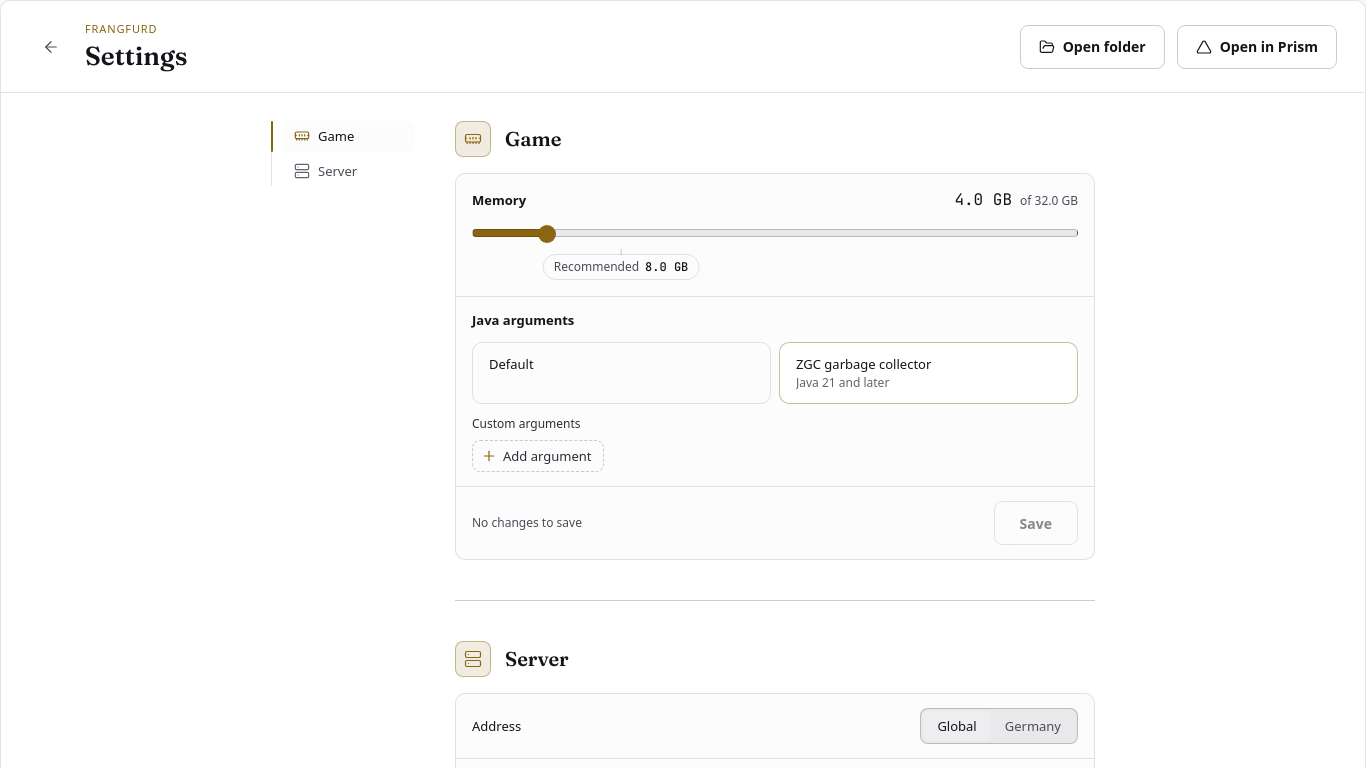
Scenario: ChapterSettingsPanel › sets the recommended memory from its mark
Step 1. Click the button "Recommended 8.0 GB" → (621, 267), box [543,254,699,280]
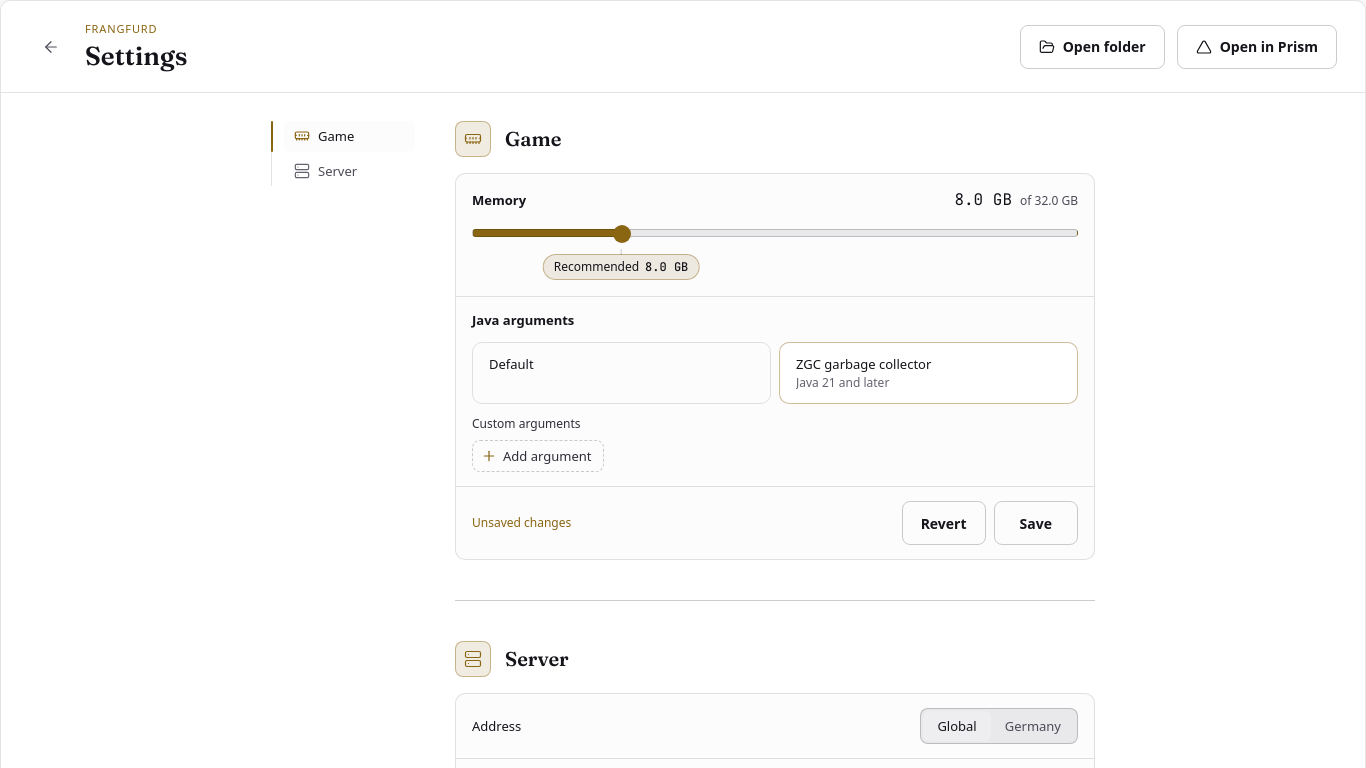
Check: the slider labelled "Memory" holds "8192", box [472,224,1078,242]
Check: the message reads "Unsaved changes", box [472,514,571,531]
